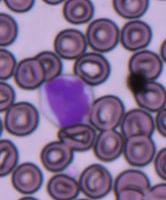M: (39, 74, 93, 128)
